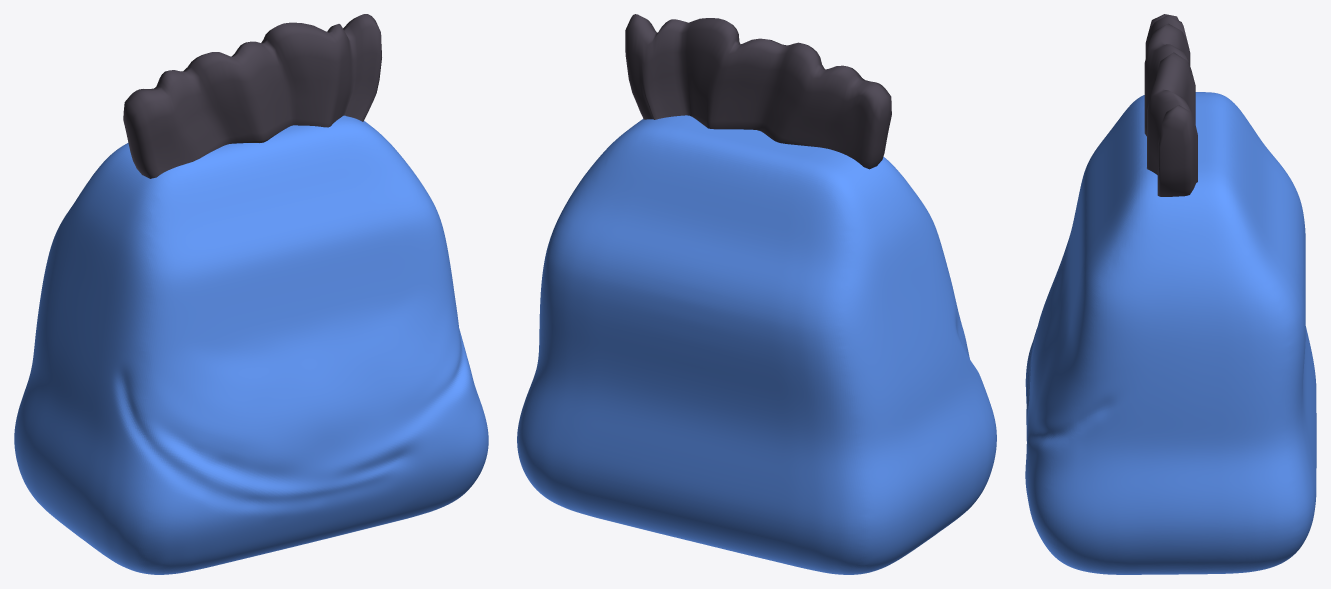
Rendered from SM_FoodBag_High.fbx.
The picture shows the model from 3 angles, left to right: view 1: azimuth 30°, elevation 25°; view 2: azimuth 150°, elevation 25°; view 3: azimuth 270°, elevation 25°; orthographic projection. The views are drawn at different scales.
Visible parts, largest first — view 1: FoodBag_Bottom_HP, FoodBag_Top_HP; view 2: FoodBag_Bottom_HP, FoodBag_Top_HP; view 3: FoodBag_Bottom_HP, FoodBag_Top_HP.
Boxes of the visible parts, <box> form: FoodBag_Bottom_HP: <box>14,115,488,574</box>; FoodBag_Top_HP: <box>123,14,381,178</box>; FoodBag_Bottom_HP: <box>517,115,996,574</box>; FoodBag_Top_HP: <box>625,14,891,169</box>; FoodBag_Bottom_HP: <box>1025,92,1316,574</box>; FoodBag_Top_HP: <box>1144,14,1197,196</box>.
Size of the model in its own units: 24.94 by 29.63 by 16.67.
